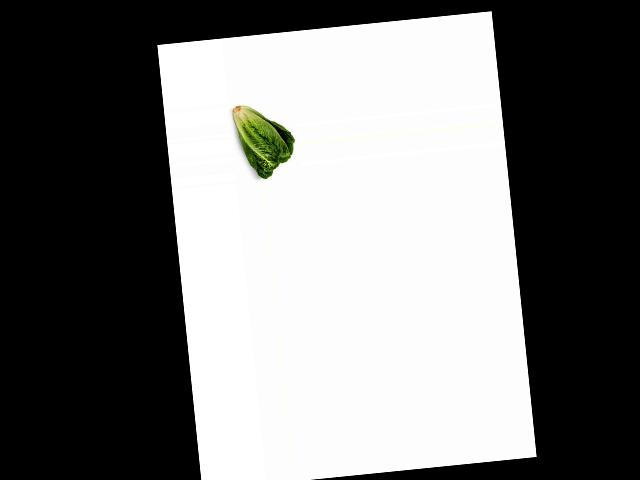lettuce: (229, 95, 297, 181)
